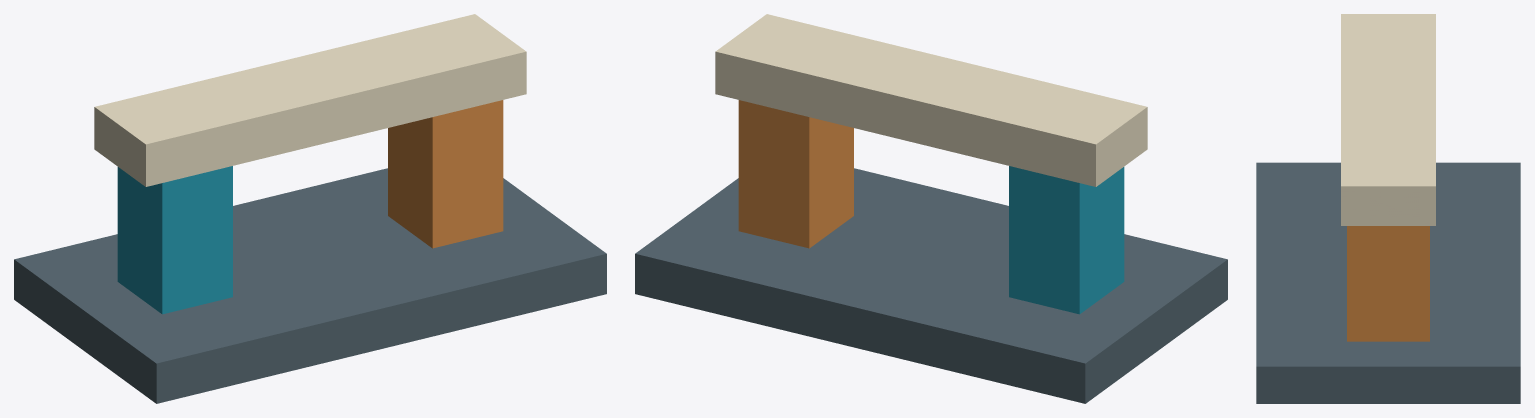
Rendered from steckbruecke.glb.
The picture shows the model from 3 angles, left to right: view 1: azimuth 30°, elevation 25°; view 2: azimuth 150°, elevation 25°; view 3: azimuth 270°, elevation 25°; orthographic projection. The views are drawn at different scales.
Visible parts, largest first — view 1: 01 Base, 04 Beam, 02 Left support, 03 Right support; view 2: 01 Base, 04 Beam, 02 Left support, 03 Right support; view 3: 01 Base, 04 Beam, 03 Right support.
Part boxes in pixels (box(x1,y1,x2,y2)): 01 Base: box(14, 168, 606, 403); 04 Beam: box(94, 14, 526, 186); 02 Left support: box(117, 166, 232, 314); 03 Right support: box(388, 100, 503, 248); 01 Base: box(635, 168, 1227, 403); 04 Beam: box(715, 14, 1147, 186); 02 Left support: box(1009, 166, 1124, 314); 03 Right support: box(738, 100, 853, 248); 01 Base: box(1256, 162, 1520, 403); 04 Beam: box(1341, 14, 1435, 225); 03 Right support: box(1347, 226, 1429, 341).
Bounding box in the file's own units: 0.42 × 0.194 × 0.23.
